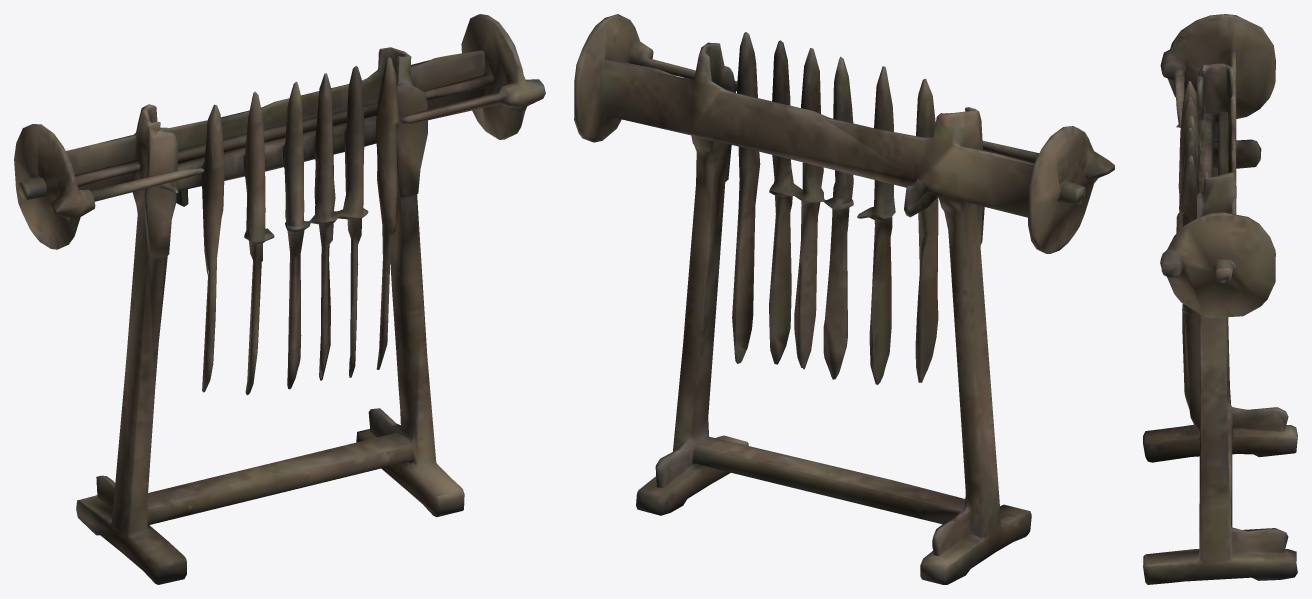
File: old-wood-weapon-rack-v001.glb
The picture shows the model from 3 angles, left to right: view 1: azimuth 30°, elevation 25°; view 2: azimuth 150°, elevation 25°; view 3: azimuth 270°, elevation 25°; orthographic projection. The views are drawn at different scales.
Visible parts, largest first — view 1: old-wood-weapon-rack; view 2: old-wood-weapon-rack; view 3: old-wood-weapon-rack.
Boxes of the visible parts, x1,y1,x2,y2 form: old-wood-weapon-rack: (14,14,545,584); old-wood-weapon-rack: (574,14,1114,584); old-wood-weapon-rack: (1143,14,1297,584).
Bounding box in the file's own units: 2.11 × 1.85 × 0.6338.
1 material, 1 textured.
